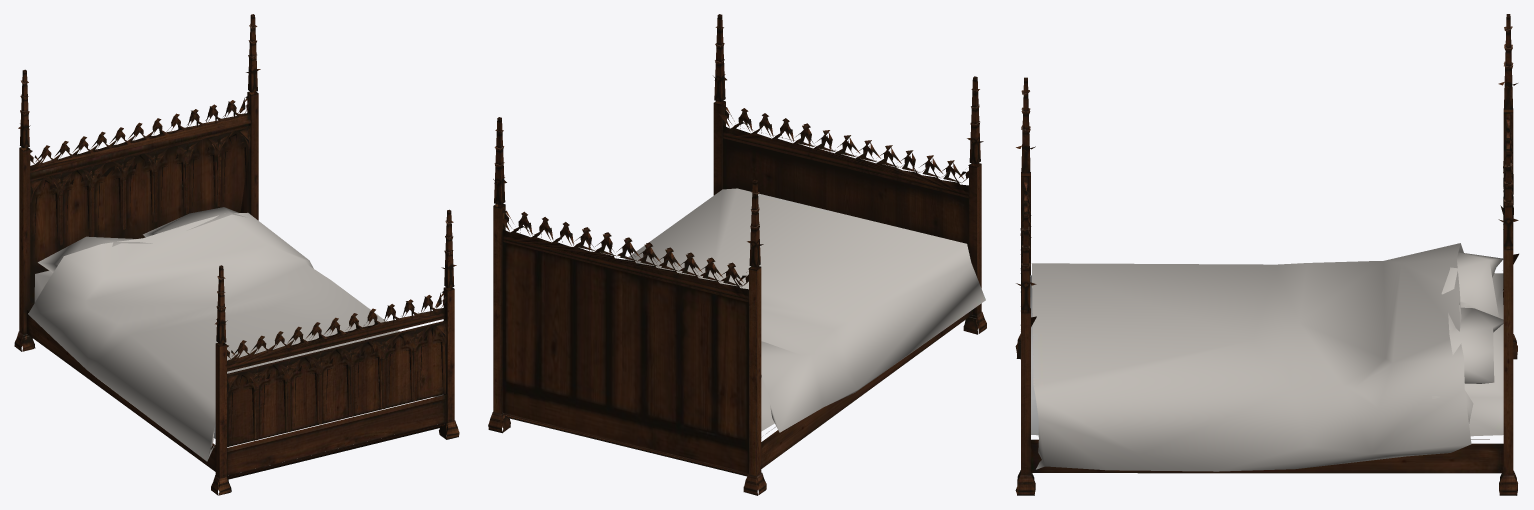
The model's file is bed.glb.
The picture shows the model from 3 angles, left to right: view 1: azimuth 30°, elevation 25°; view 2: azimuth 150°, elevation 25°; view 3: azimuth 270°, elevation 25°; orthographic projection. The views are drawn at different scales.
Visible parts, largest first — view 1: GothicBed_01; view 2: GothicBed_01; view 3: GothicBed_01.
Boxes of the visible parts, x1,y1,x2,y2 form: GothicBed_01: [14, 14, 459, 495]; GothicBed_01: [488, 14, 986, 495]; GothicBed_01: [1015, 14, 1518, 495].
Bounding box in the file's own units: 1.5 × 1.53 × 2.05.
1 material, 1 textured.
